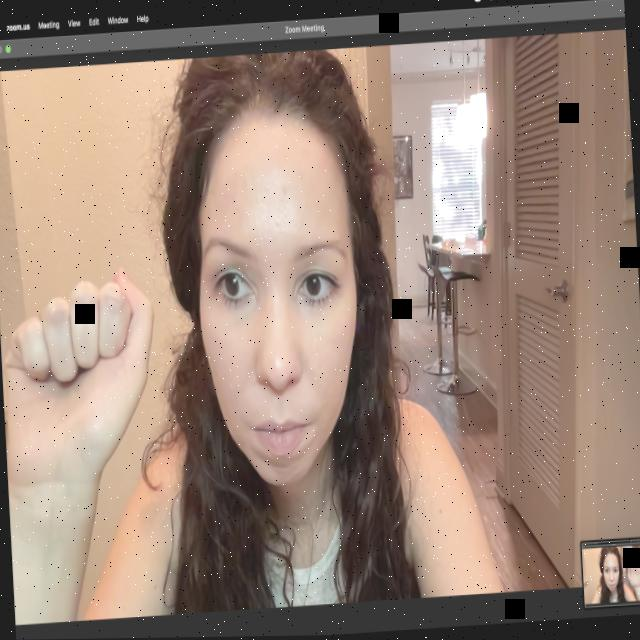Rock: (0, 248, 166, 501)
